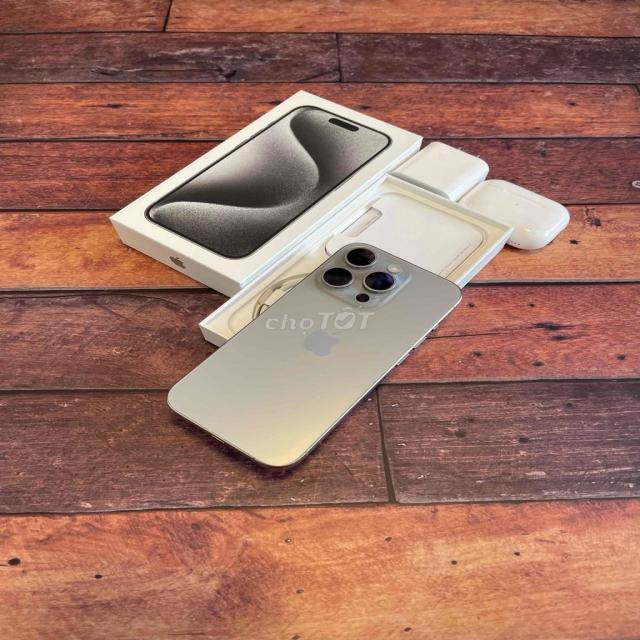gen_15: (164, 243, 469, 473)
